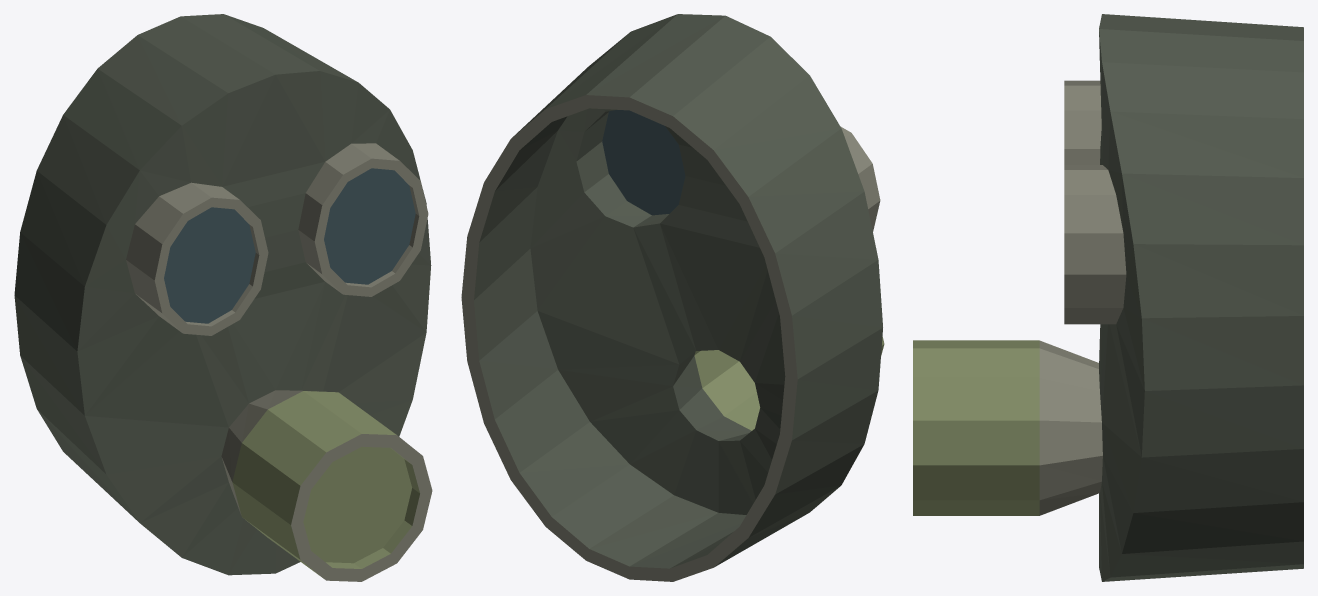
The model's file is NEW_RECOVERY_060_LOD2.glb.
3 renders of one model, left to right at view 1: azimuth 30°, elevation 25°; view 2: azimuth 150°, elevation 25°; view 3: azimuth 270°, elevation 25°, orthographic. The views are drawn at different scales.
Parts seen in each view (by area): view 1: Gas_mask; view 2: Gas_mask; view 3: Gas_mask.
Boxes of the visible parts, x1,y1,x2,y2 form: Gas_mask: [14, 14, 432, 581]; Gas_mask: [461, 14, 884, 581]; Gas_mask: [913, 14, 1303, 581].
Size of the model in its own units: 0.23 by 0.31 by 0.204.
